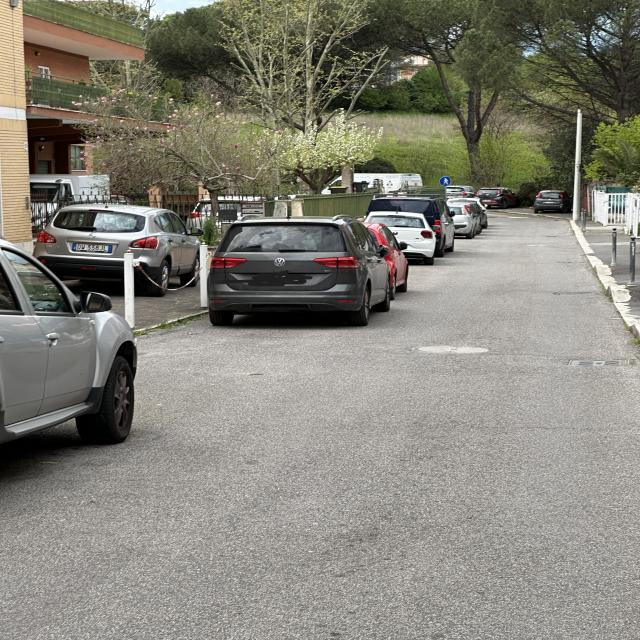number_plate: (71, 240, 112, 253)
